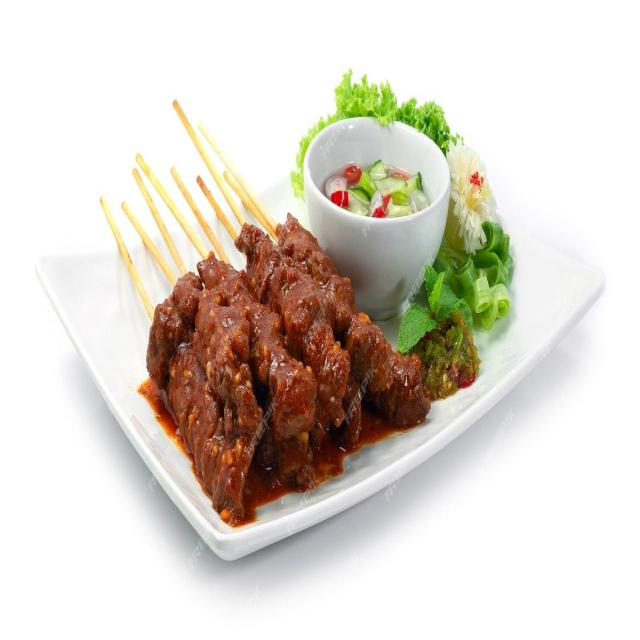Sate: (98, 133, 360, 545)
